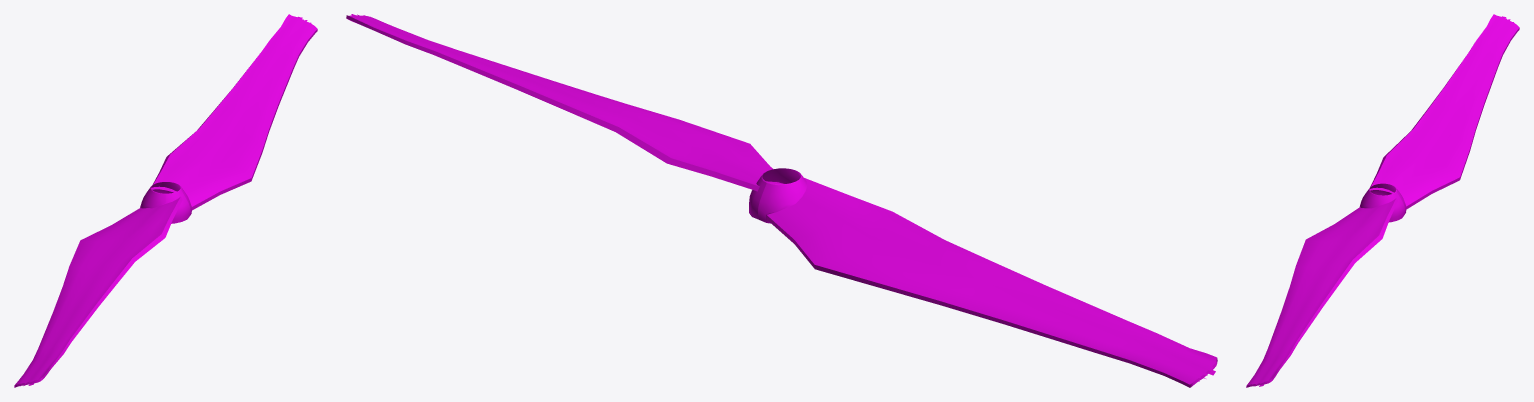
File: propeller_3.fbx
3 renders of one model, left to right at view 1: azimuth 90°, elevation 25°; view 2: azimuth 150°, elevation 25°; view 3: azimuth 270°, elevation 25°, orthographic. The views are drawn at different scales.
Visible parts, largest first — view 1: polySurface11; view 2: polySurface11; view 3: polySurface11.
Boxes of the visible parts, x1,y1,x2,y2 form: polySurface11: [14, 14, 317, 387]; polySurface11: [346, 14, 1217, 387]; polySurface11: [1246, 14, 1519, 387].
Size of the model in its own units: 17.81 by 0.746 by 5.89.
